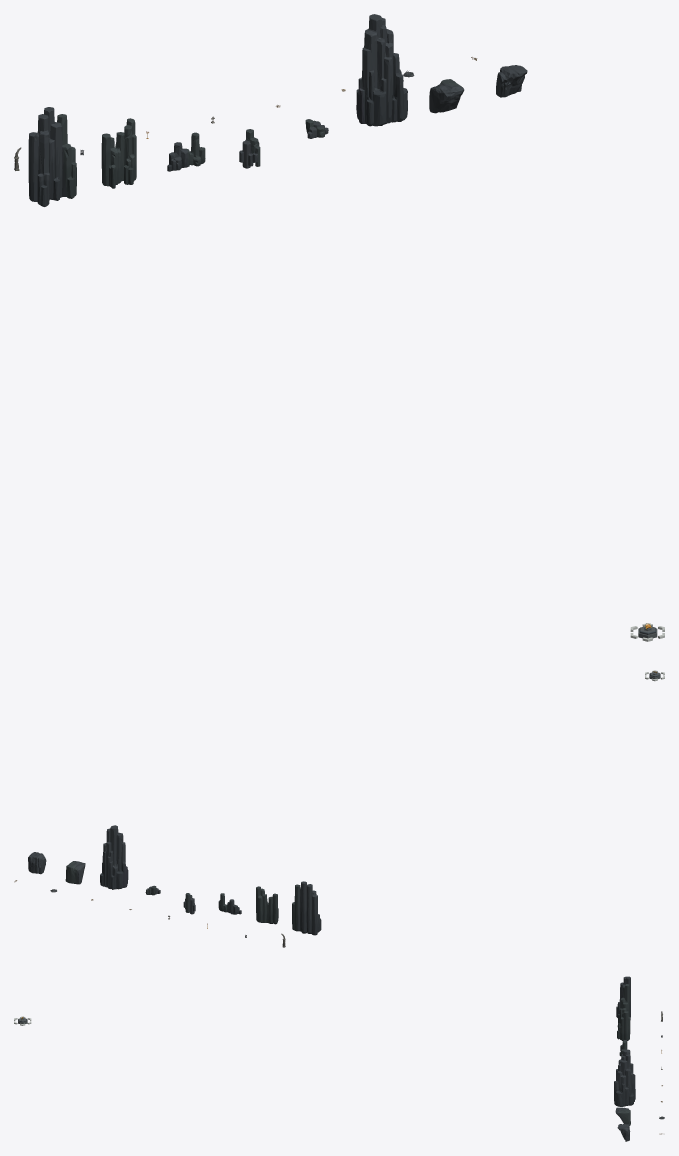
File: map.glb
3 views of the same model, one above another, from view 1: azimuth 30°, elevation 25°; view 2: azimuth 150°, elevation 25°; view 3: azimuth 270°, elevation 25° (orthographic). The views are drawn at different scales.
Visible parts, largest first — view 1: crypt-cliffNarrow, crypt-basaltTall, crypt-basaltWide, crypt-rockIsland, crypt-basaltRidge; view 2: crypt-cliffNarrow, crypt-basaltTall, crypt-basaltWide; view 3: crypt-cliffNarrow, crypt-basaltTall, crypt-basaltWide.
Boxes of the visible parts, x1,y1,x2,y2 form: crypt-cliffNarrow: (356, 14, 407, 126); crypt-basaltTall: (28, 107, 76, 206); crypt-basaltWide: (101, 118, 136, 188); crypt-rockIsland: (429, 79, 464, 113); crypt-basaltRidge: (167, 132, 205, 171); crypt-cliffNarrow: (100, 825, 128, 889); crypt-basaltTall: (292, 881, 321, 935); crypt-basaltWide: (256, 886, 278, 924); crypt-cliffNarrow: (614, 1049, 635, 1106); crypt-basaltTall: (616, 976, 630, 1024); crypt-basaltWide: (617, 1008, 630, 1040).
Bounding box in the file's own units: 106 × 23.88 × 238.
2 materials, 1 textured.
